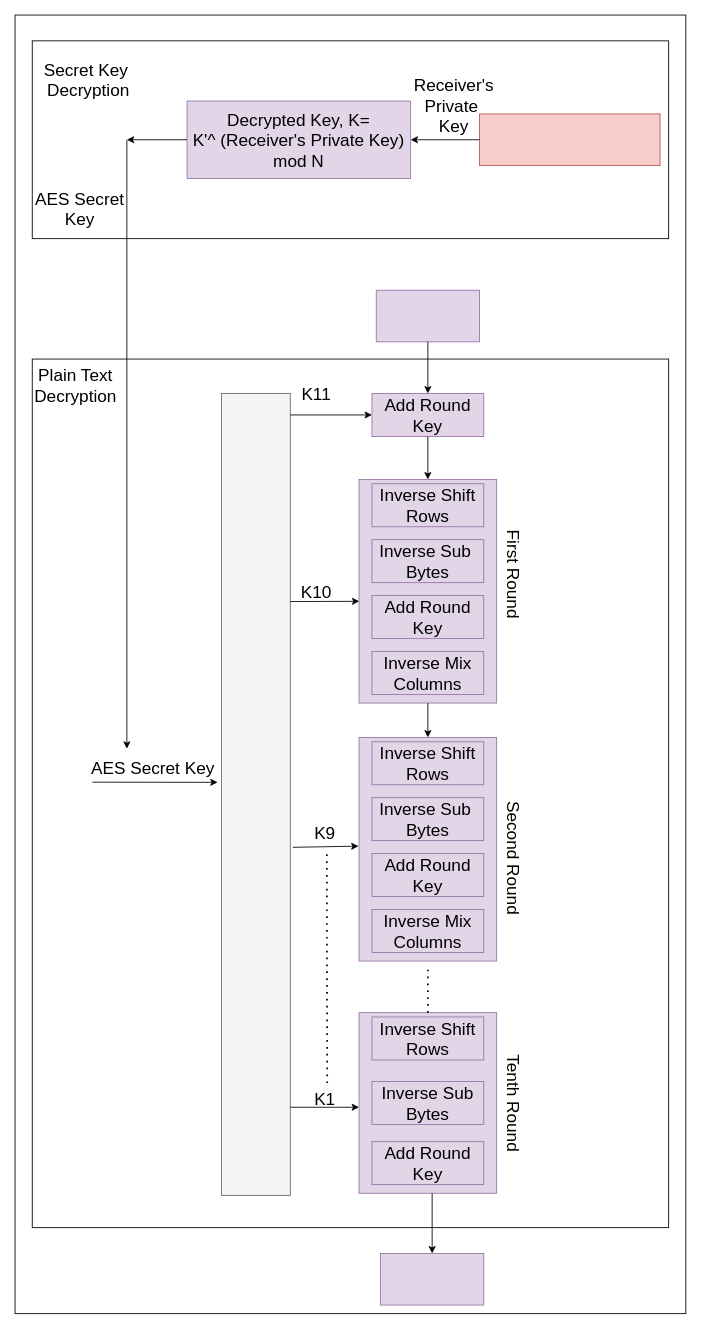
The diagram is 701 pixels wide and 1329 high, and some of its shapes have lost their labels. Each missing label, with the box of its shape:
Cipher Text: (375, 289, 479, 342)
Key Expansion: (221, 393, 290, 1195)
Plain Text: (380, 1253, 484, 1305)
Receiver's Public Key Receiver's Private Key: (479, 113, 660, 166)
